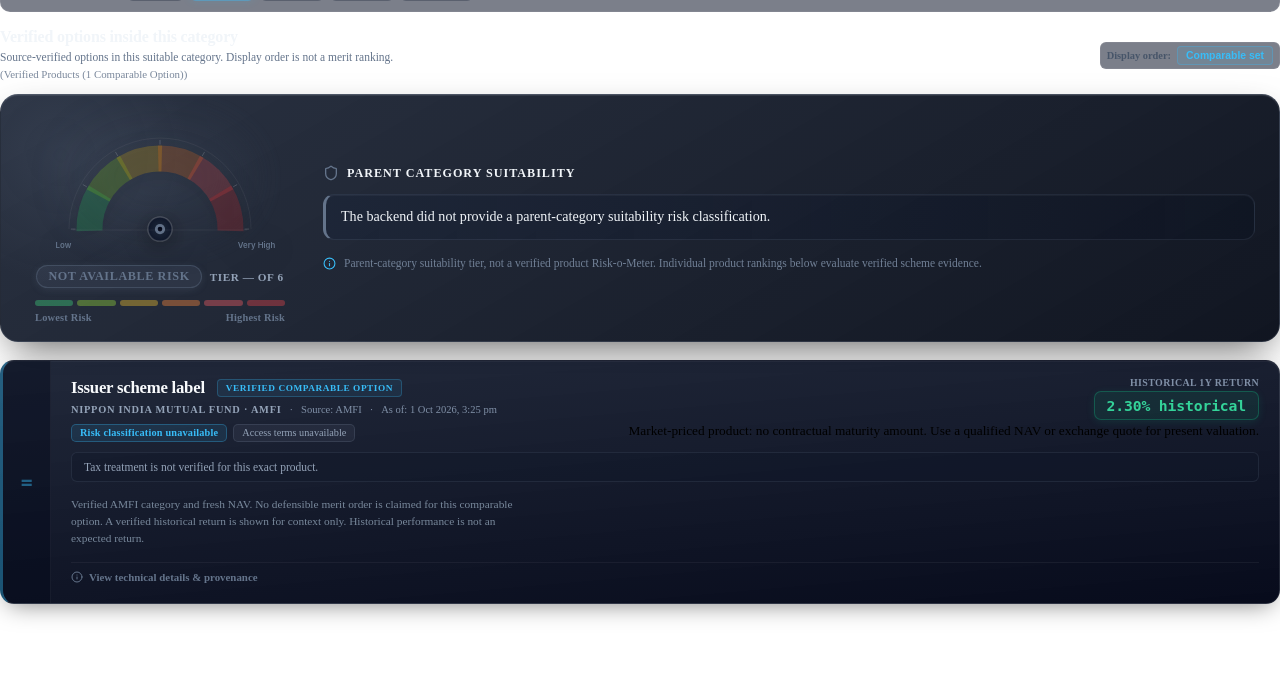
Test: Beginner-First Where-To-Invest UX › renders exact ETF identity and NAV separately from unavailable market price and product facts
Expected: the heading "Issuer scheme label" is shown, [71,378,205,399]
Expected: the text with test id "wti-contractual-cashflow-not-applicable" shows "no contractual maturity amount", [628,424,1259,438]
Click the heading "View technical details & provenance".
click(164, 577)  # box [71,569,258,585]
(page scrolled)
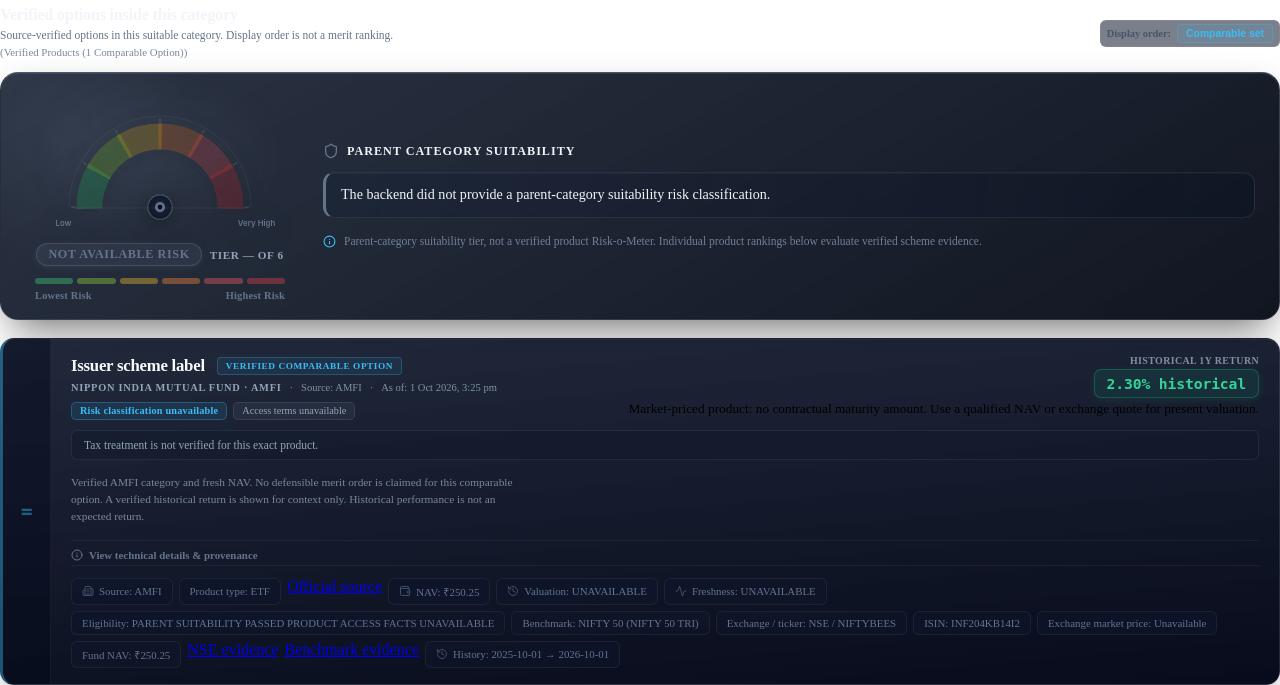
Now the text "Benchmark: NIFTY 50 (NIFTY 50 TRI)" is shown, box [511,611,710,635]
Now the text "Exchange / ticker: NSE / NIFTYBEES" is shown, box [716,611,907,635]
Now the text "ISIN: INF204KB14I2" is shown, box [913,611,1031,635]
